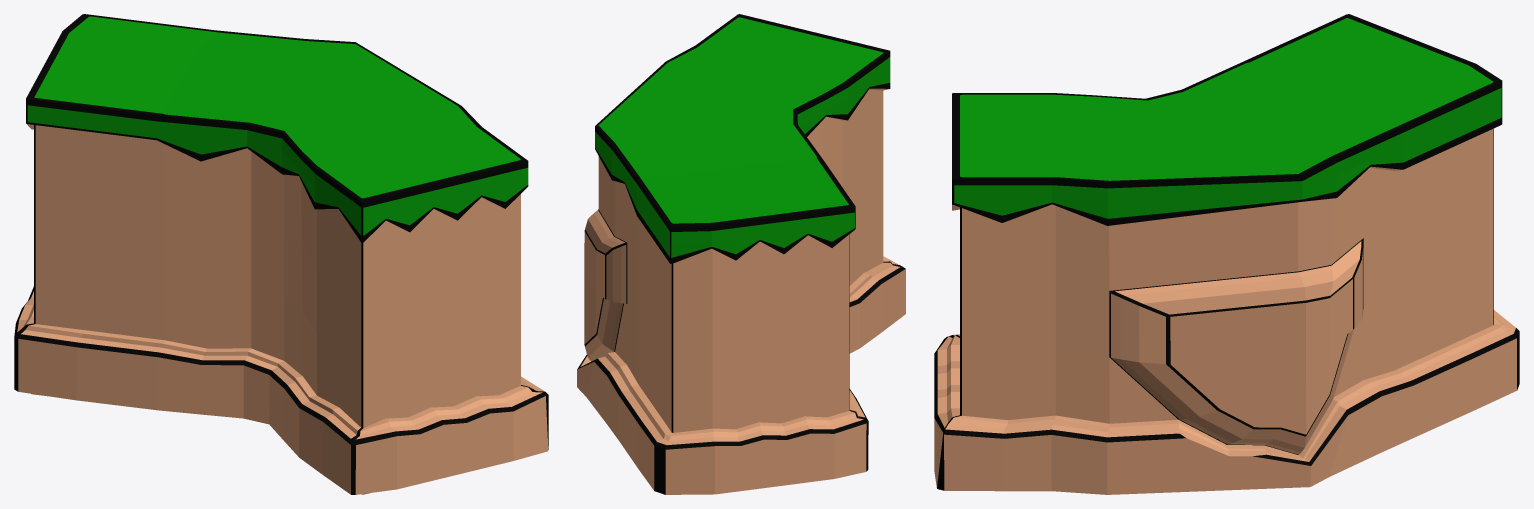
File: CardboardPlatform22.fbx
3 views of the same model, side by side, from view 1: azimuth 30°, elevation 25°; view 2: azimuth 150°, elevation 25°; view 3: azimuth 270°, elevation 25° (orthographic). The views are drawn at different scales.
Visible parts, largest first — view 1: Cube.041; view 2: Cube.041; view 3: Cube.041.
Boxes of the visible parts, x1,y1,x2,y2 form: Cube.041: [14, 14, 548, 494]; Cube.041: [577, 14, 905, 494]; Cube.041: [934, 14, 1519, 494].
Bounding box in the file's own units: 2128 × 1708 × 2907.
